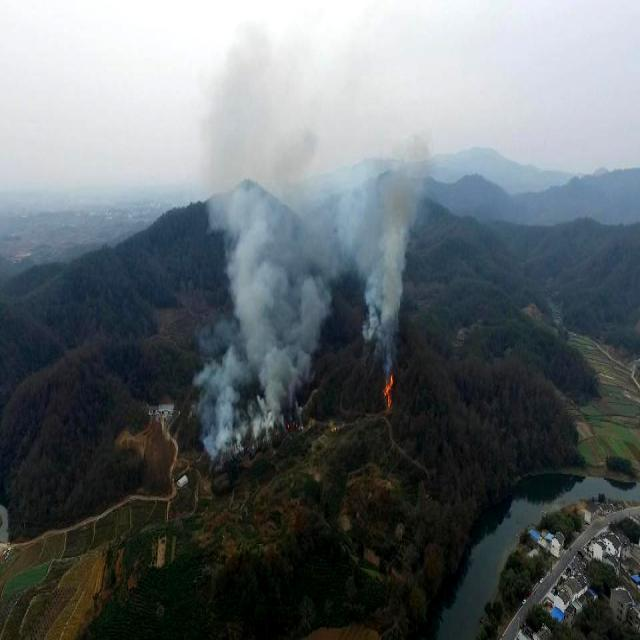Smoke: (183, 100, 340, 472), (328, 128, 416, 366)
